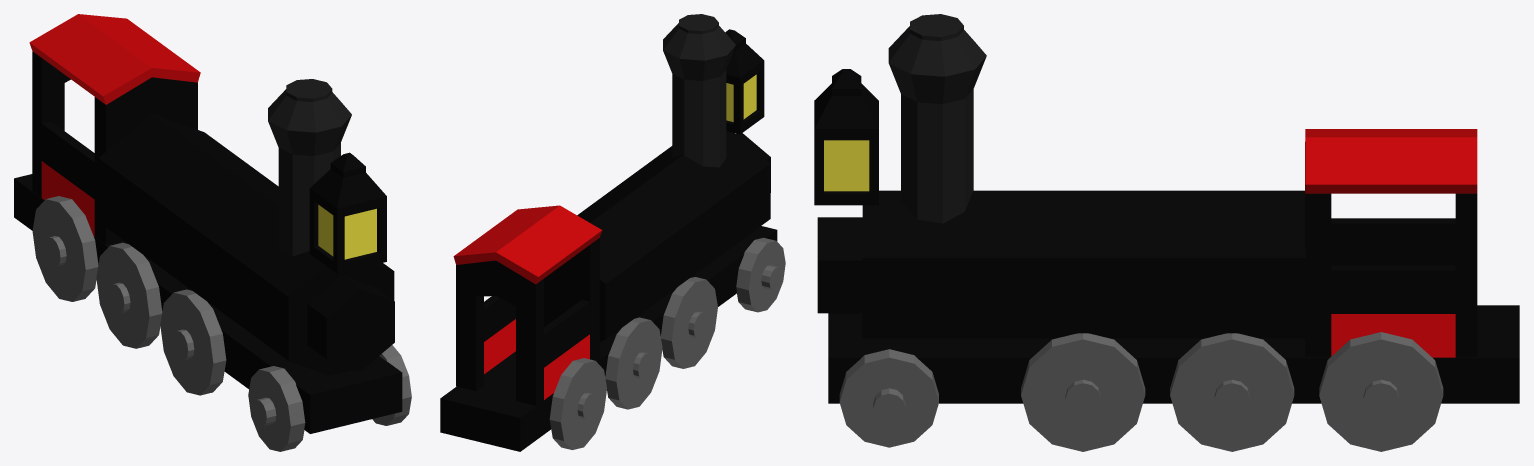
The model's file is trainengine.glb.
3 views of the same model, side by side, from view 1: azimuth 30°, elevation 25°; view 2: azimuth 150°, elevation 25°; view 3: azimuth 270°, elevation 25° (orthographic). The views are drawn at different scales.
Visible parts, largest first — view 1: TrainEngine, BackWheels, Trainbase, EngineExhaust, TopCab, Lantern, FrontCab, FrontWheels, CabSides, BackCab; view 2: TrainEngine, BackWheels, Trainbase, BackCab, EngineExhaust, TopCab, CabSides, FrontCab, Lantern, FrontWheels; view 3: TrainEngine, BackWheels, Trainbase, CabSides, EngineExhaust, TopCab, Lantern, FrontWheels, FrontCab, BackCab.
Part boxes in pixels (left/top/right/bottom): TrainEngine: left=98, top=113, right=394, bottom=375; BackWheels: left=32, top=196, right=226, bottom=395; Trainbase: left=14, top=174, right=402, bottom=433; EngineExhaust: left=268, top=79, right=351, bottom=256; TopCab: left=29, top=14, right=200, bottom=104; Lantern: left=309, top=152, right=386, bottom=273; FrontCab: left=94, top=77, right=197, bottom=244; FrontWheels: left=248, top=345, right=411, bottom=451; CabSides: left=41, top=121, right=94, bottom=236; BackCab: left=32, top=51, right=70, bottom=197; TrainEngine: left=577, top=131, right=770, bottom=341; BackWheels: left=549, top=277, right=717, bottom=449; Trainbase: left=440, top=226, right=777, bottom=451; BackCab: left=456, top=260, right=543, bottom=405; EngineExhaust: left=663, top=14, right=735, bottom=167; TopCab: left=453, top=205, right=602, bottom=284; CabSides: left=484, top=296, right=589, bottom=399; FrontCab: left=544, top=238, right=599, bottom=361; Lantern: left=725, top=29, right=764, bottom=134; FrontWheels: left=736, top=237, right=785, bottom=312; TrainEngine: left=817, top=190, right=1305, bottom=338; BackWheels: left=1021, top=332, right=1443, bottom=451; Trainbase: left=828, top=305, right=1519, bottom=403; CabSides: left=1331, top=218, right=1455, bottom=357; EngineExhaust: left=888, top=14, right=986, bottom=223; TopCab: left=1305, top=129, right=1477, bottom=193; Lantern: left=814, top=69, right=878, bottom=205; FrontWheels: left=839, top=349, right=938, bottom=447; FrontCab: left=1305, top=142, right=1331, bottom=356; BackCab: left=1455, top=193, right=1477, bottom=356.
Size of the model in its own units: 3.04 by 6.95 by 11.35.
6 materials, 3 textured.
